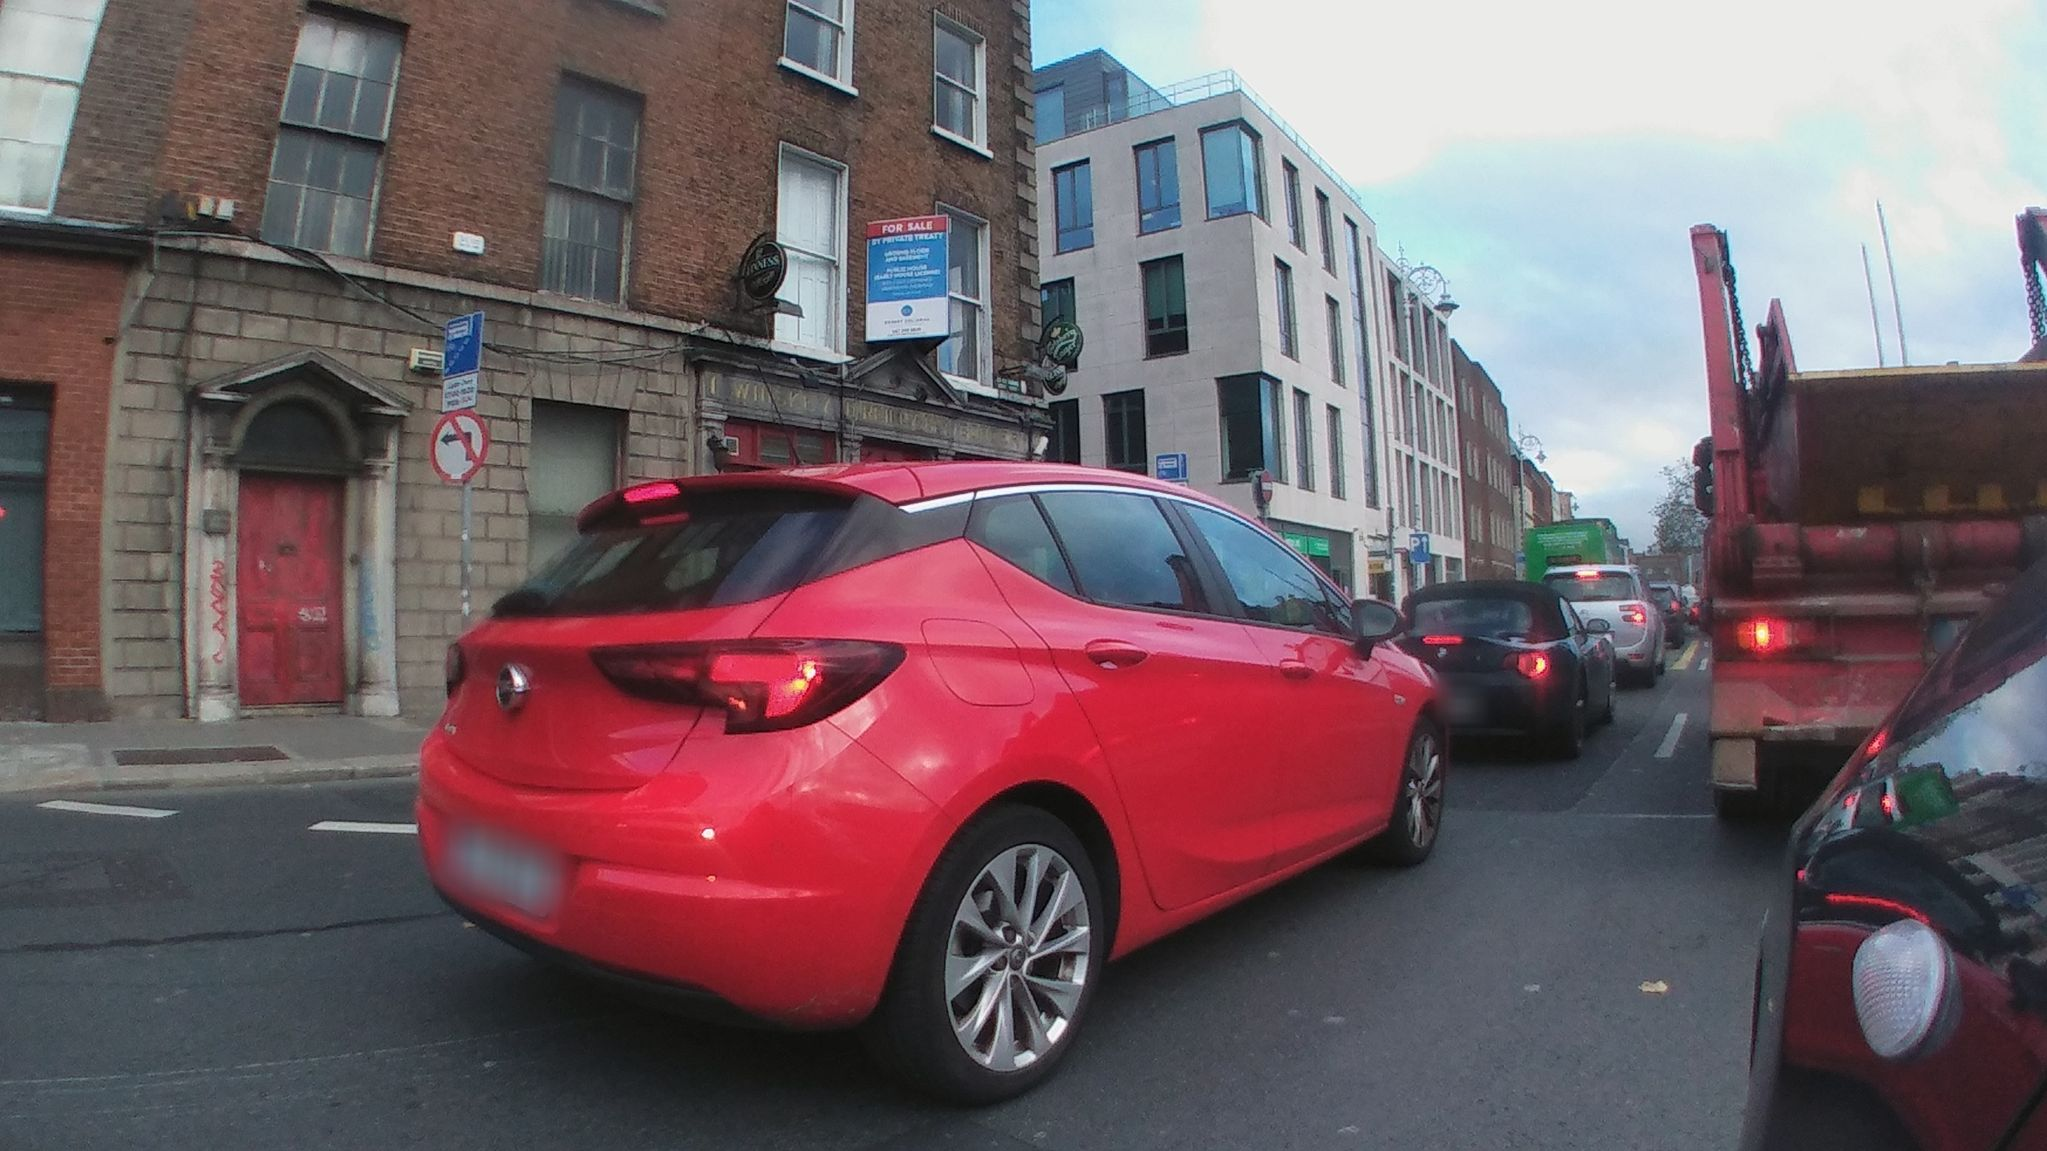property sign: (852, 198, 964, 350)
